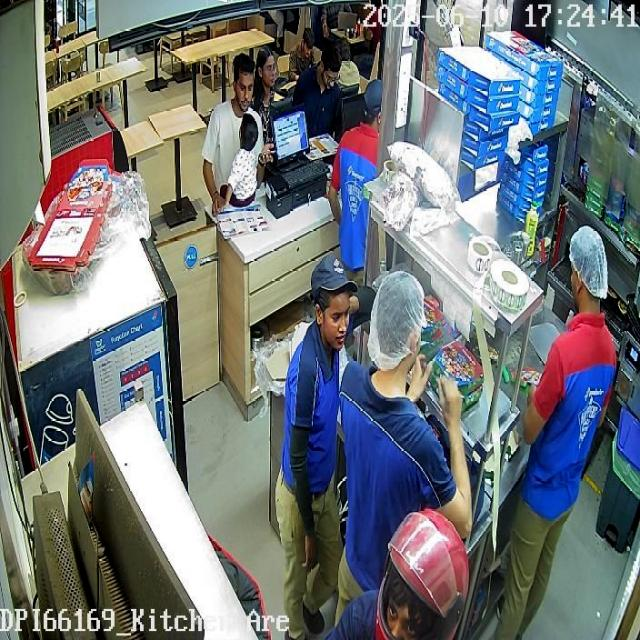helmet: (375, 506, 470, 639)
